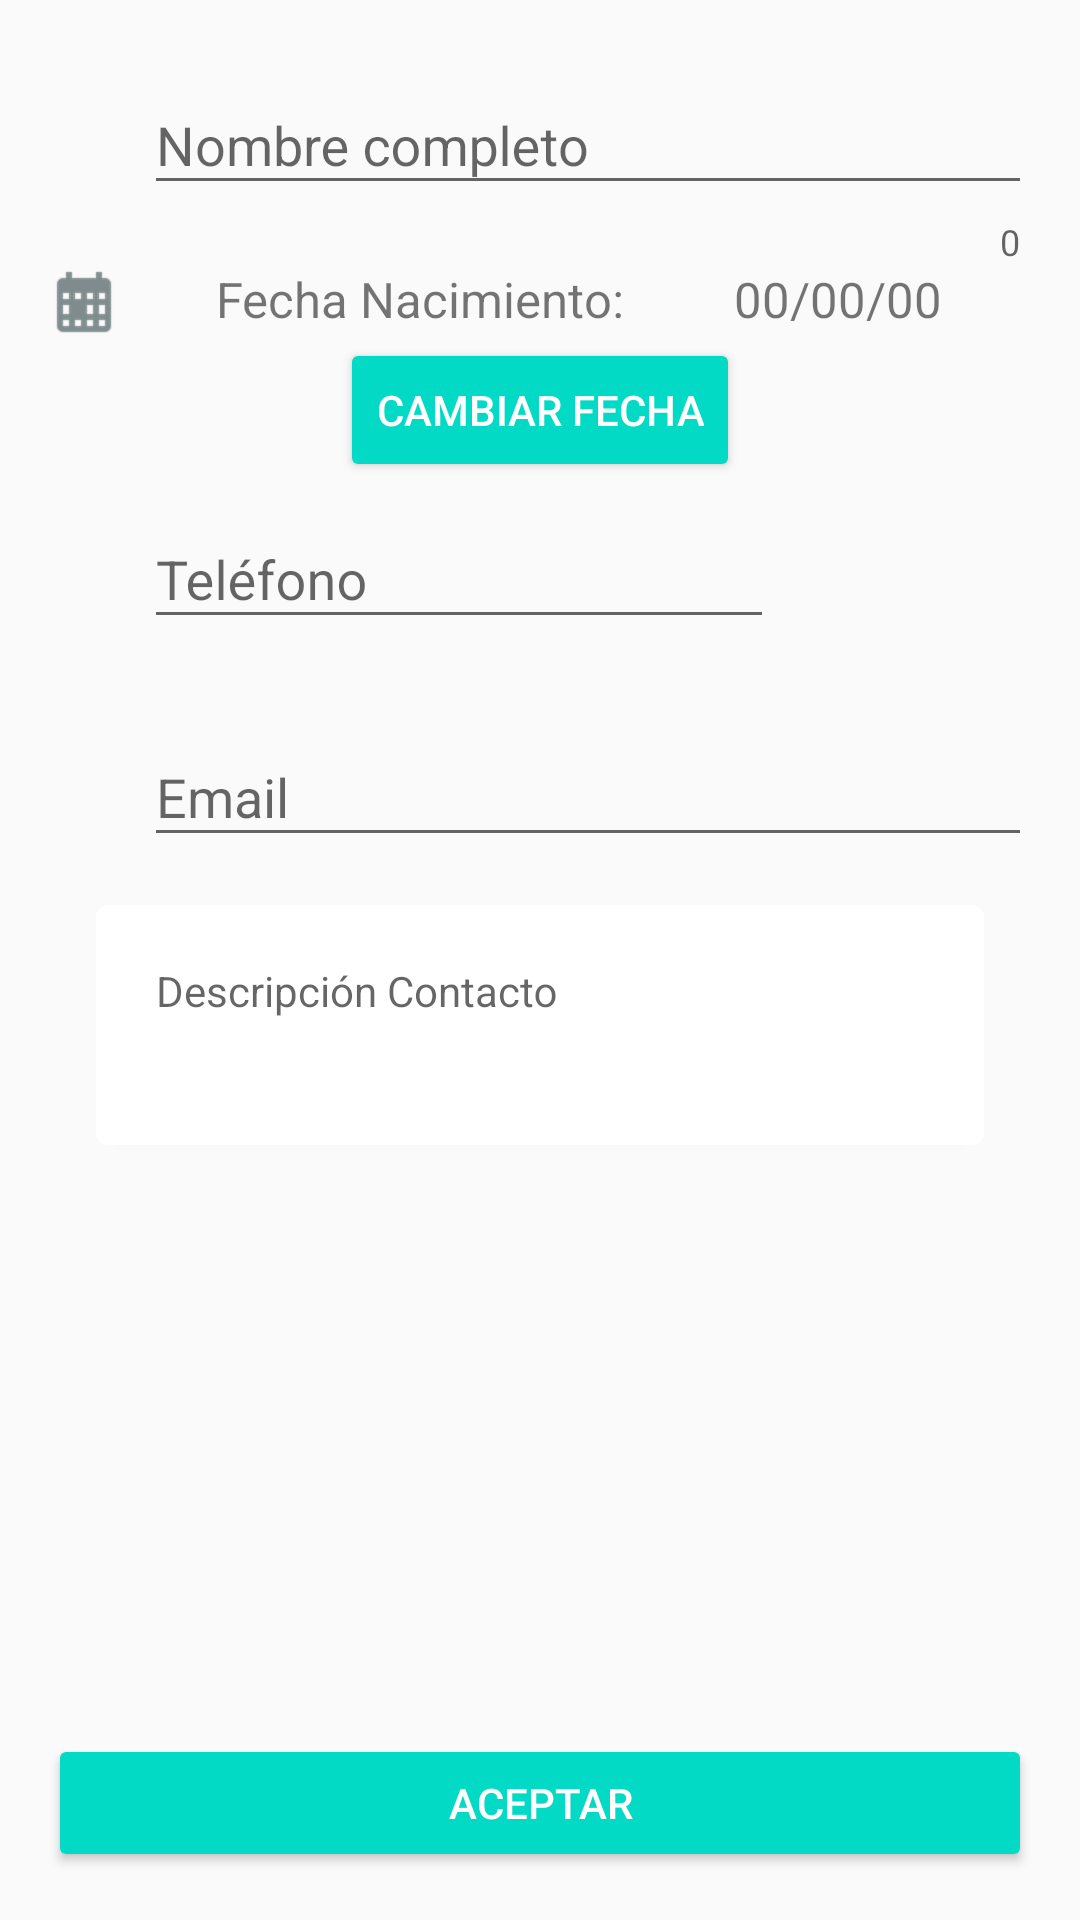

Icon bounding boxes for this 1080px x 1920px phone screenshot, format (x1=x1, y1=y1, x2=x2, y2=y2):
calendar: (x1=57, y1=272, x2=111, y2=332)
